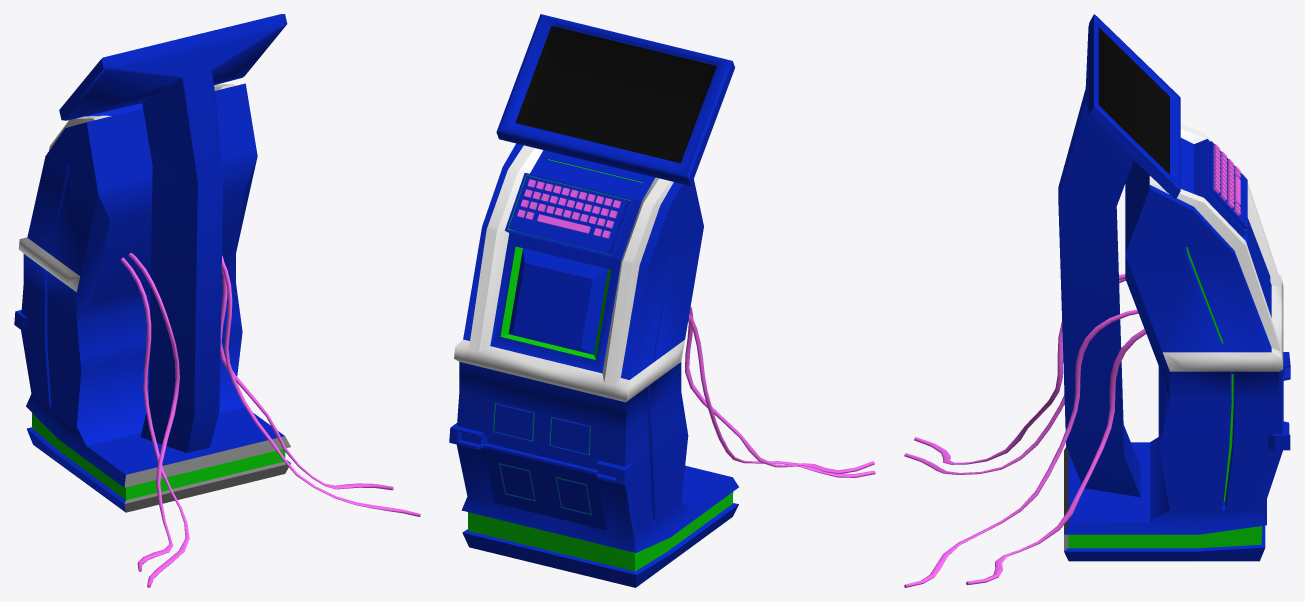
The model's file is Monitor_control.fbx.
3 views of the same model, side by side, from view 1: azimuth 30°, elevation 25°; view 2: azimuth 150°, elevation 25°; view 3: azimuth 270°, elevation 25° (orthographic). The views are drawn at different scales.
Visible parts, largest first — view 1: Monitor; view 2: Monitor; view 3: Monitor.
Boxes of the visible parts, <box> form: Monitor: <box>14,14,420,587</box>; Monitor: <box>449,14,875,587</box>; Monitor: <box>904,14,1290,587</box>.
Size of the model in its own units: 7.79 by 11.97 by 9.02.
